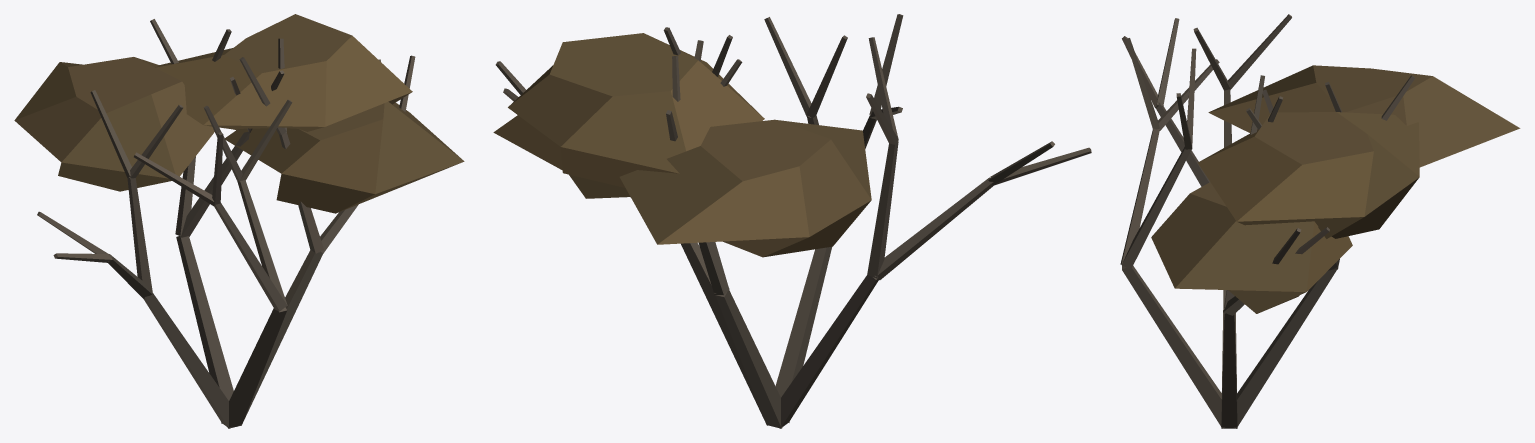
The model's file is field_scrub.glb.
3 renders of one model, left to right at view 1: azimuth 30°, elevation 25°; view 2: azimuth 150°, elevation 25°; view 3: azimuth 270°, elevation 25°, orthographic. The views are drawn at different scales.
Parts seen in each view (by area): view 1: field_scrub; view 2: field_scrub; view 3: field_scrub.
Boxes of the visible parts, bbox=[...] form: field_scrub: bbox=[14, 14, 464, 428]; field_scrub: bbox=[493, 14, 1091, 428]; field_scrub: bbox=[1120, 14, 1520, 428].
Size of the model in its own units: 0.9307 by 0.704 by 0.6971.
Materials: 1 (1 with a texture image).
